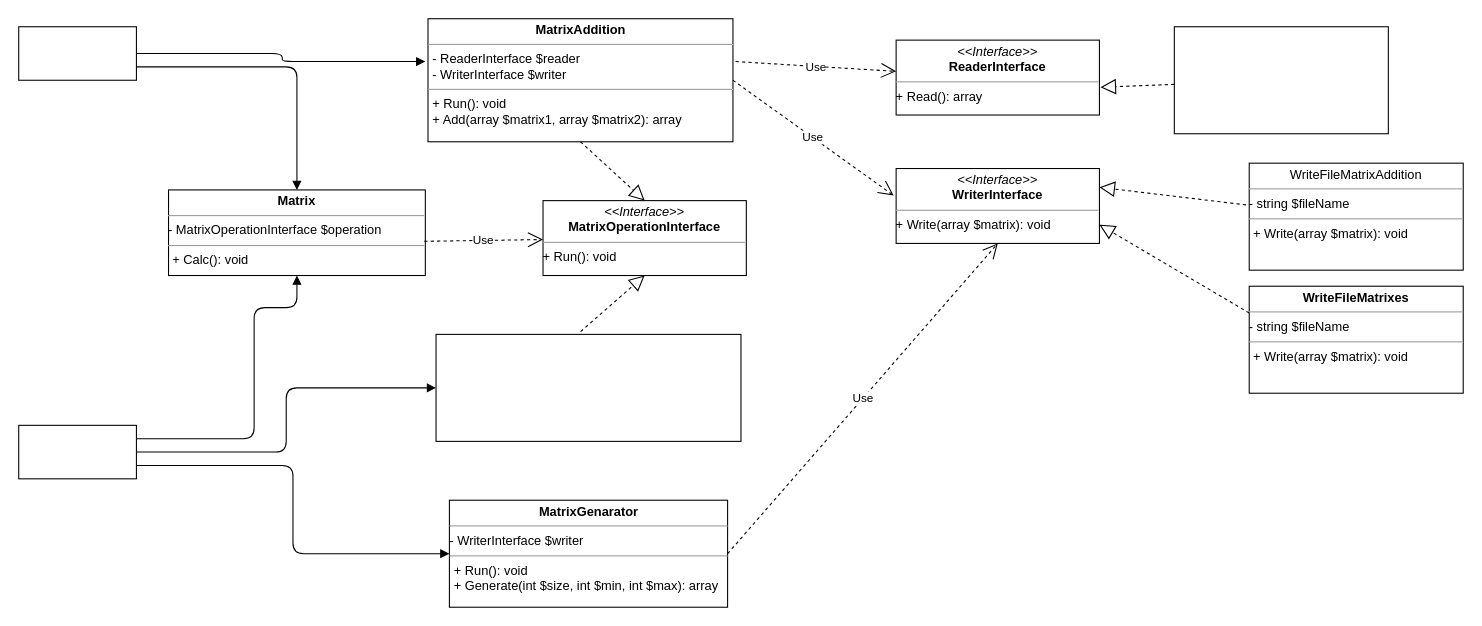
Image size: 1482x626. Some labels were removed from this diagram. Here are the shapes that lost their labels. From the top down, the centre of each, then its label:
pixel 77 53: Prog1
pixel 1280 80: ReadFileMatrixes - string $fileName + Read(): array
pixel 588 387: MatrixAdditionAdapter - string $inFile - string $outFile + Run(): void
pixel 77 451: Prog2
